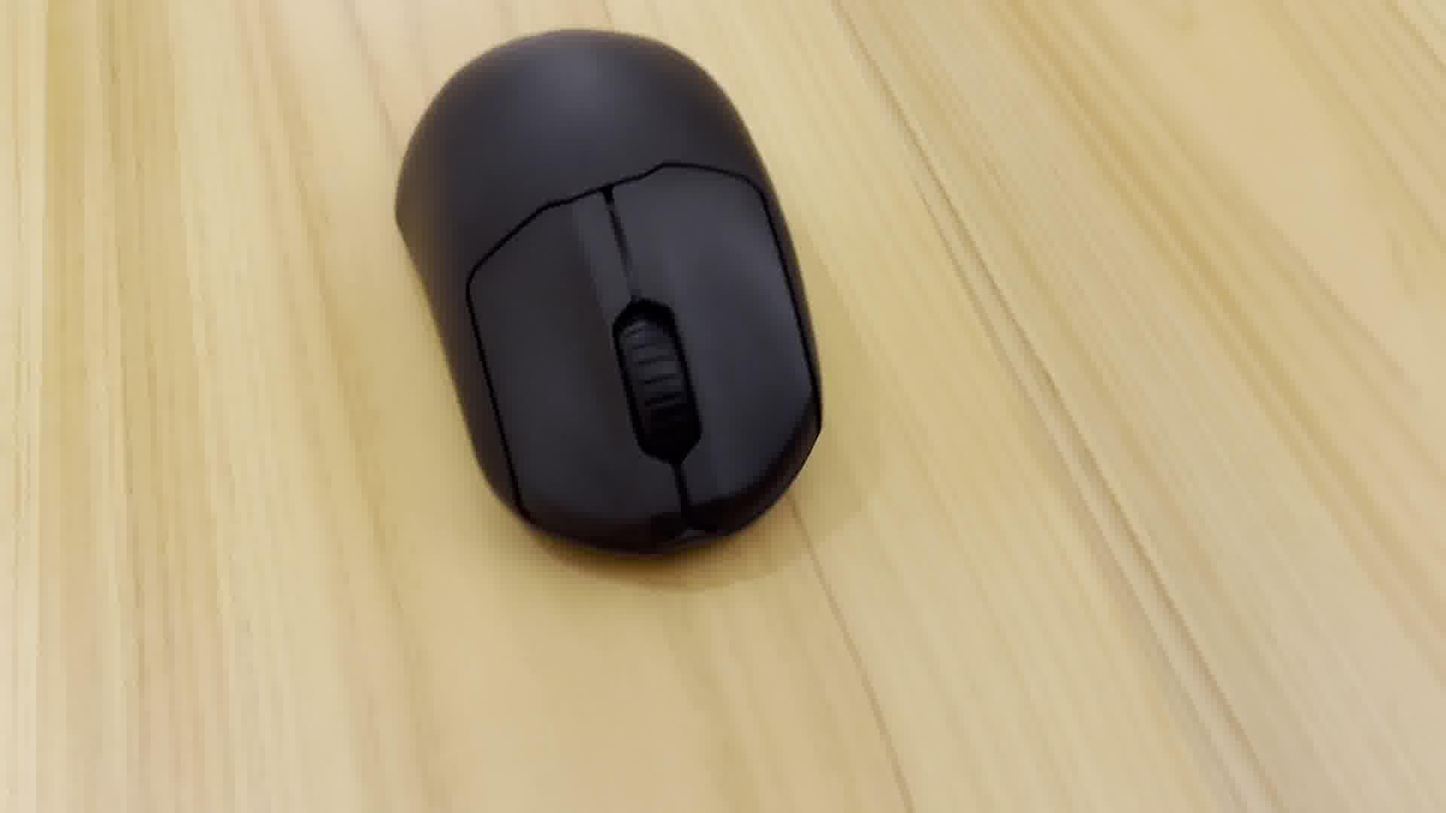steel-series: (385, 18, 845, 575)
